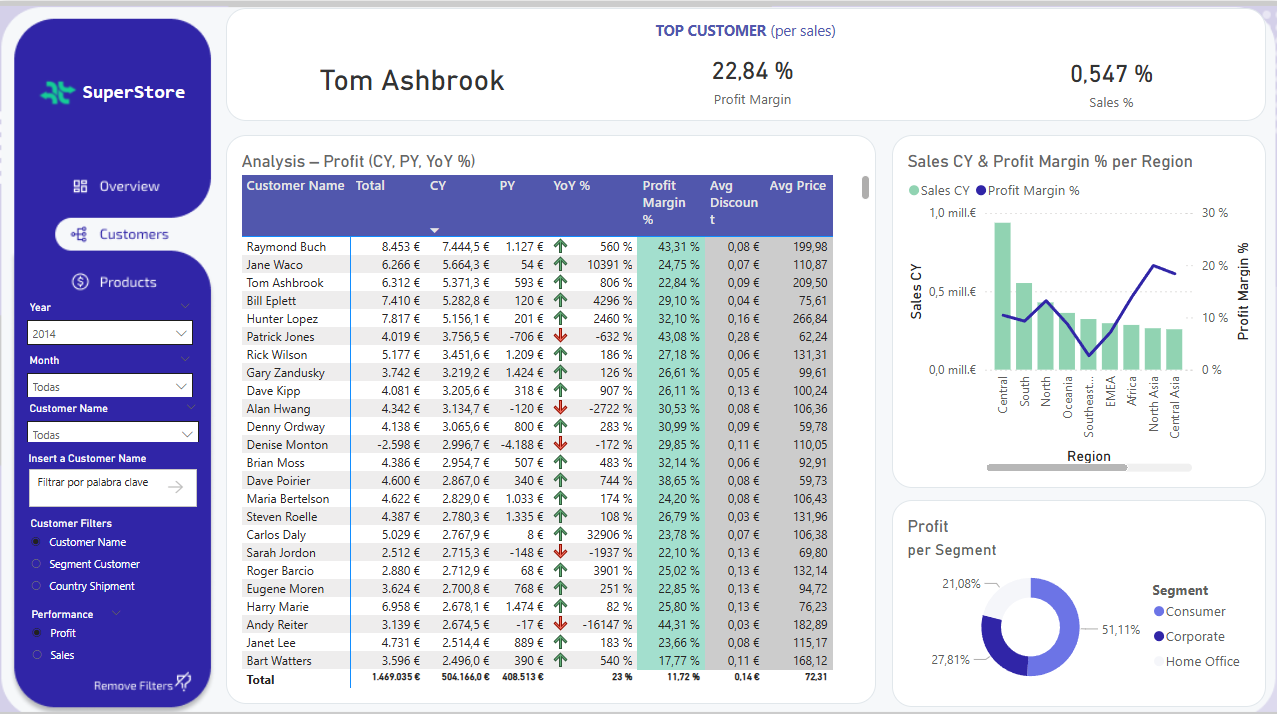

This screenshot's page, from the dashboard's own definition file:
{"tool":"powerbi","page":{"name":"Customers","canvas":[1280,720],"ordinal":1},"visuals":[{"type":"textbox","box":[226.7,7.3,1040.1,112.4],"z":0},{"type":"card","title":"Sales","fields":{"Values":["_Measures.Top Customer per Sales"]},"box":[251.2,35.4,323.7,83.4],"z":1000},{"type":"donutChart","fields":{"Y":["_Measures.Profit Sum"],"Category":["DimCustomer.Segment"]},"box":[893,499,374,207],"z":2000},{"type":"card","title":"Profit Margin","fields":{"Values":["_Measures.Top Customer Sales %"]},"box":[947.6,41.7,329.2,77.1],"z":3000},{"type":"lineClusteredColumnComboChart","title":"Sales CY & Profit Margin % per Region","fields":{"Category":["DimShipLocation.Region"],"Y":["_Measures.Sales CY"],"Y2":["_Measures.Profit Margin"]},"box":[893.2,134.2,373.6,352.7],"z":4000},{"type":"slicer","title":"Product Performance","fields":{"Values":["FP_CustomerFilters.CustomerFilters"]},"box":[19,511,189,92],"z":5000},{"type":"card","title":"Profit","fields":{"Values":["_Measures.Top customer profit margin %"]},"box":[583.1,35.4,341,83.4],"z":6000},{"type":"textSlicer","title":"Insert a Customer Name","fields":{"Values":["DimCustomer.Customer Name"]},"box":[25,451,178,60],"z":7000},{"type":"pivotTable","fields":{"Rows":["DimCustomer.Customer Name"],"Values":["_Measures.Selected Total","_Measures.Selected CY","_Measures.Selected PY","_Measures.Selected YoY %","_Measures.Profit Margin %","_Measures.Avg Discount","_Measures.Avg Price"]},"box":[227,134,650,569],"z":8000},{"type":"slicer","title":"Market","fields":{"Values":["DimCustomer.Customer Name"]},"box":[18,395.9,192.2,45.3],"z":9000},{"type":"pageNavigator","box":[45.8,154.4,143.6,152.6],"z":10000},{"type":"slicer","title":"Product Performance","fields":{"Values":["FP_ProductPerformance.CalculateSales"]},"box":[20,602,115,68],"z":11000},{"type":"group","id":"g1","title":"Grupo 1","box":[37,75,157,44],"z":12000},{"type":"slicer","title":"Year","fields":{"Values":["DimCalendar.Year"]},"box":[18,295.2,185.9,52.6],"z":13000},{"type":"image","box":[37,75,42,37],"z":14000,"group":"g1"},{"type":"slicer","title":"Year","fields":{"Values":["DimCalendar.MonthText"]},"box":[18,347.8,185.9,48.1],"z":14000},{"type":"textbox","box":[79,75,115,44],"z":15000,"group":"g1"},{"type":"actionButton","box":[40.8,692.8,144.2,27.2],"z":15000},{"type":"actionButton","box":[63,668,144,50],"z":16000},{"type":"shape","box":[229,0,1038,130],"z":16001}]}

Visuals, with their boxes on the page's 1280x720 design canvas (x1, y1, x2, y2). These are canvas units, not pixel positions in the 1277x714 screenshot, which may show the page scaled, cropped or inside an application window:
textbox: l=227, t=7, r=1267, b=120
"Sales" card: l=251, t=35, r=575, b=119
donutChart - _Measures.Profit Sum x DimCustomer.Segment: l=893, t=499, r=1267, b=706
"Profit Margin" card: l=948, t=42, r=1277, b=119
"Sales CY & Profit Margin % per Region" lineClusteredColumnComboChart: l=893, t=134, r=1267, b=487
"Product Performance" slicer: l=19, t=511, r=208, b=603
"Profit" card: l=583, t=35, r=924, b=119
"Insert a Customer Name" textSlicer: l=25, t=451, r=203, b=511
pivotTable - DimCustomer.Customer Name x _Measures.Selected Total: l=227, t=134, r=877, b=703
"Market" slicer: l=18, t=396, r=210, b=441
pageNavigator: l=46, t=154, r=189, b=307
"Product Performance" slicer: l=20, t=602, r=135, b=670
"Grupo 1" group: l=37, t=75, r=194, b=119
"Year" slicer: l=18, t=295, r=204, b=348
image: l=37, t=75, r=79, b=112
"Year" slicer: l=18, t=348, r=204, b=396
textbox: l=79, t=75, r=194, b=119
actionButton: l=41, t=693, r=185, b=720
actionButton: l=63, t=668, r=207, b=718
shape: l=229, t=0, r=1267, b=130
